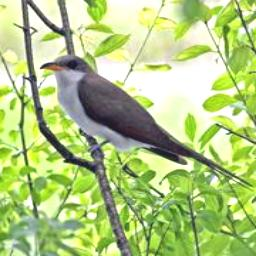Cuckoo: (36, 53, 250, 192)
